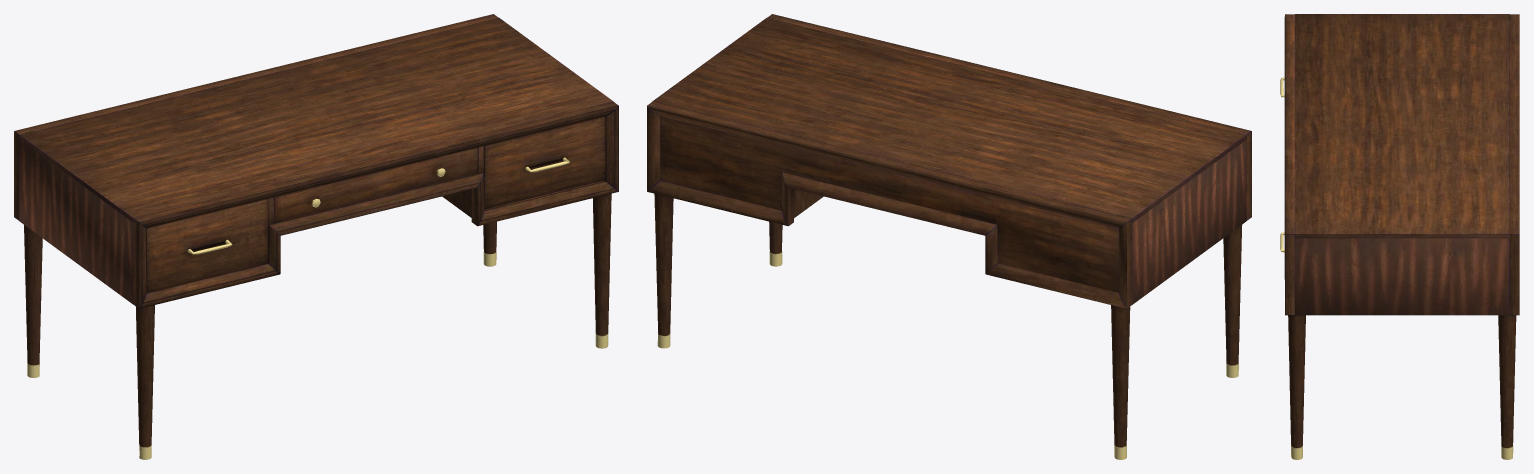
File: abo-B07B7DL32P.glb
3 renders of one model, left to right at view 1: azimuth 30°, elevation 25°; view 2: azimuth 150°, elevation 25°; view 3: azimuth 270°, elevation 25°, orthographic. The views are drawn at different scales.
Visible parts, largest first — view 1: RootNode; view 2: RootNode; view 3: RootNode.
Boxes of the visible parts, box(x1,y1,x2,y2) form: RootNode: box(14, 14, 618, 459); RootNode: box(647, 14, 1251, 459); RootNode: box(1280, 14, 1519, 459).
Bounding box in the file's own units: 1.57 × 0.7615 × 0.7239.
1 material, 1 textured.
